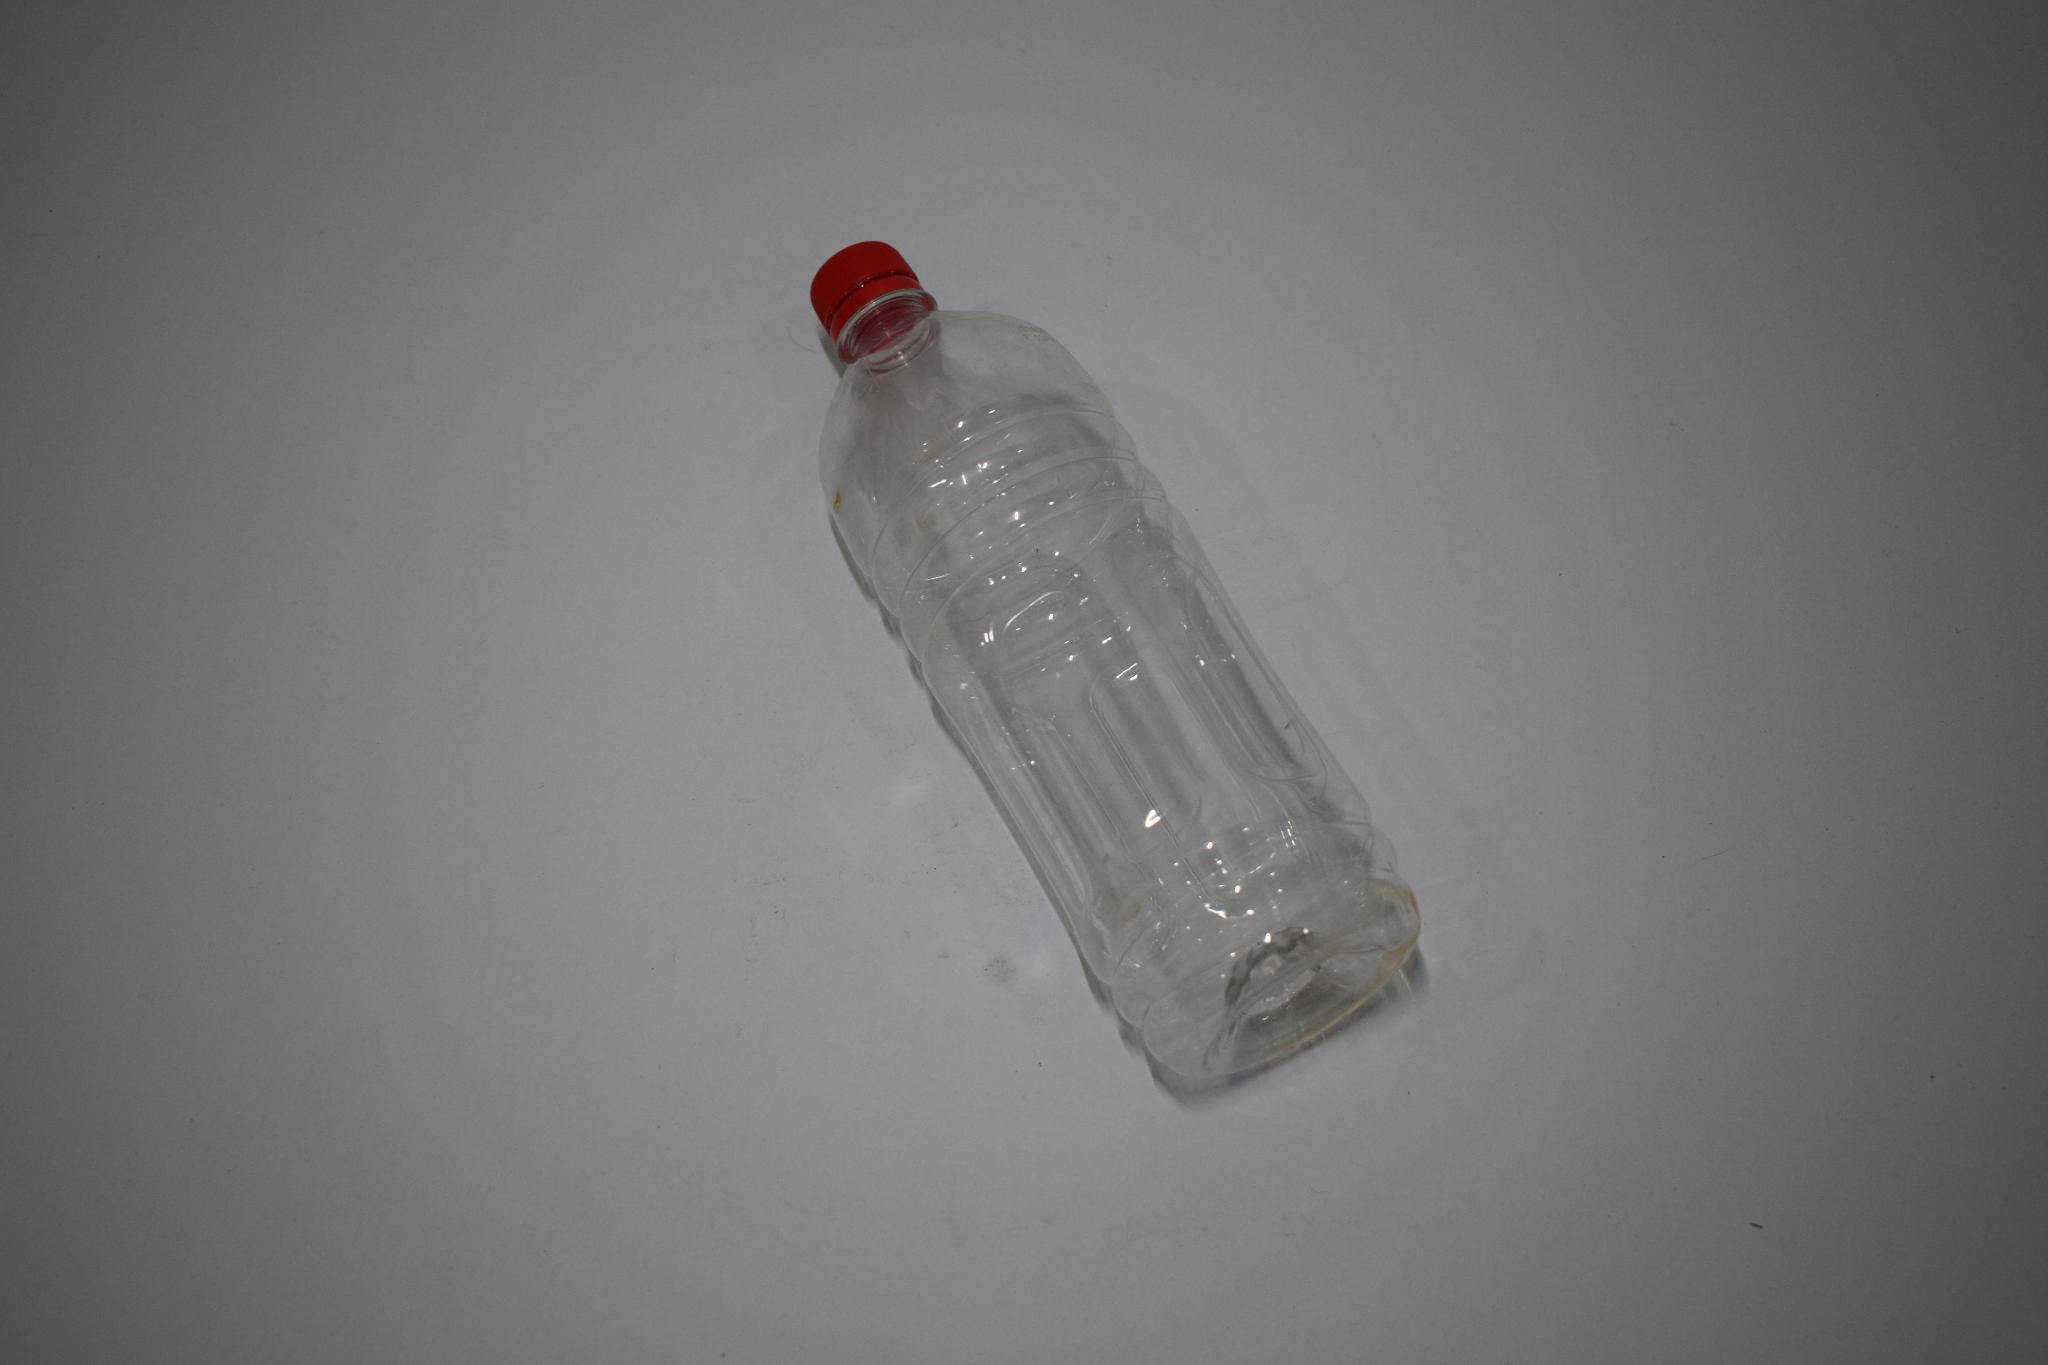bottle: (776, 239, 1472, 1099)
